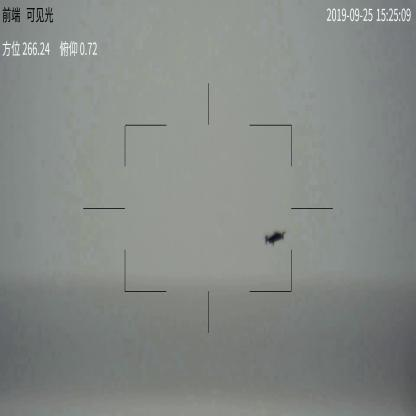uav: (264, 229, 284, 245)
